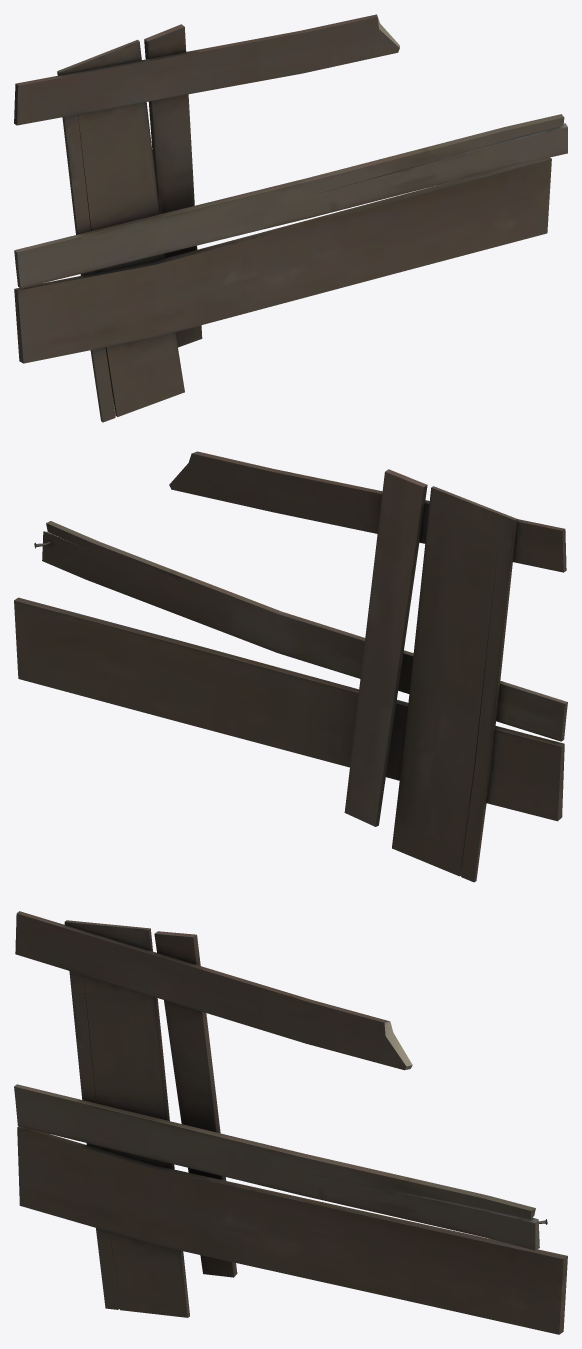
3 renders of one model, top to bottom at view 1: azimuth 30°, elevation 25°; view 2: azimuth 150°, elevation 25°; view 3: azimuth 330°, elevation 25°, orthographic. The views are drawn at different scales.
Visible parts, largest first — view 1: body0_model0_lod0_mesh0; view 2: body0_model0_lod0_mesh0; view 3: body0_model0_lod0_mesh0.
Part boxes in pixels (x1,y1,x2,y2): body0_model0_lod0_mesh0: (14,14,567,422); body0_model0_lod0_mesh0: (14,451,567,882); body0_model0_lod0_mesh0: (14,911,567,1334).
Bounding box in the file's own units: 168 × 113 × 23.77.
Materials: 1 (1 with a texture image).
